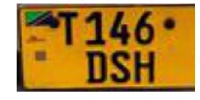T: (56, 9, 81, 47)
